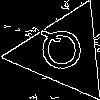Q: (38, 27, 86, 79)
